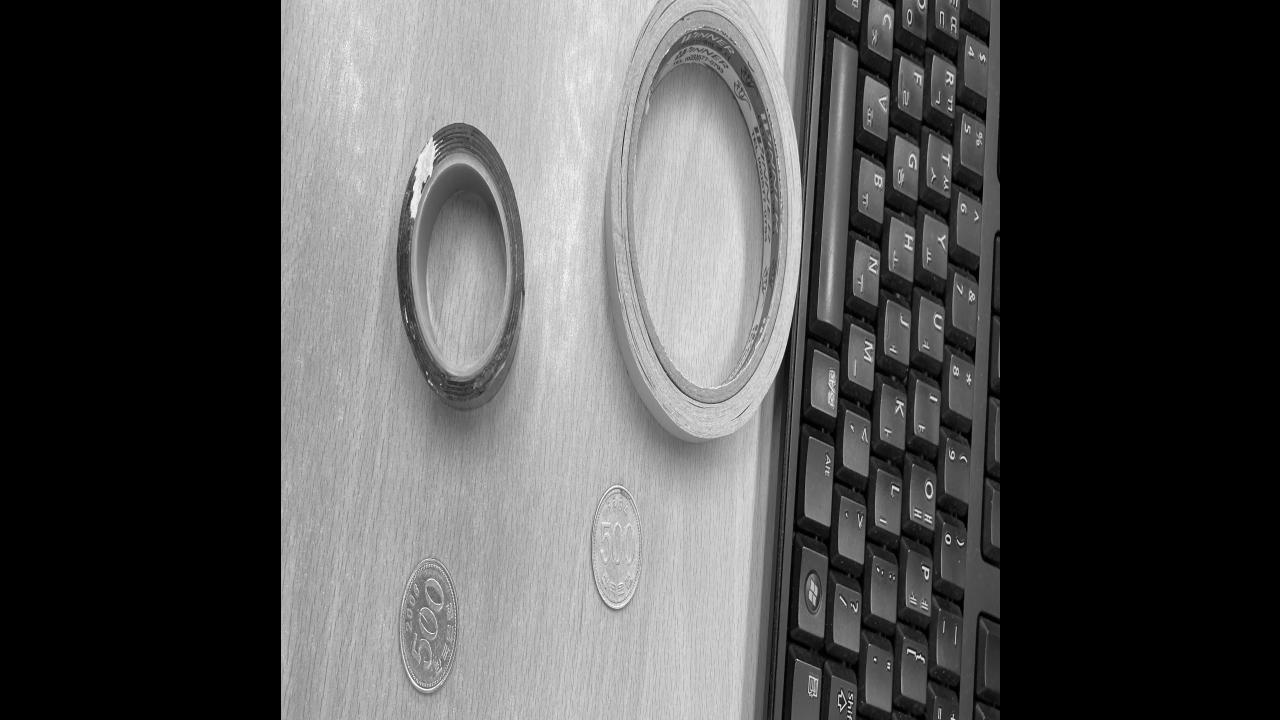coin: (398, 558, 458, 692), (590, 483, 640, 608)
